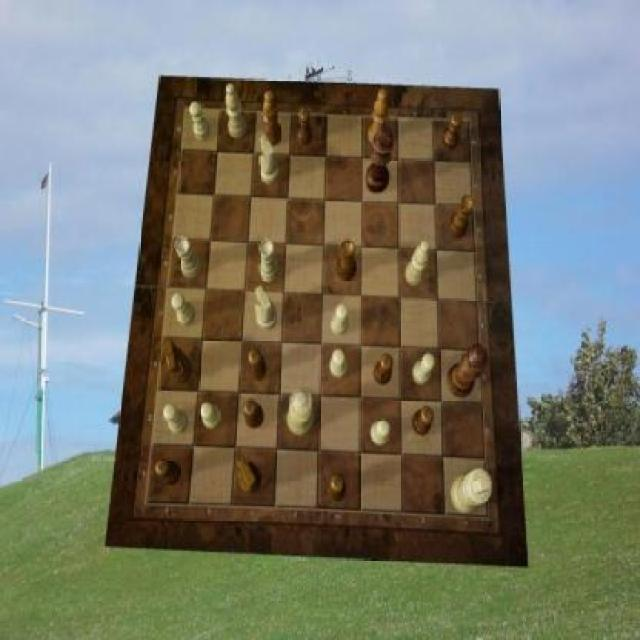bishop: (368, 89, 388, 147), (263, 91, 282, 145)
black-bishop: (366, 126, 394, 194)
black-king: (165, 341, 192, 384), (237, 457, 261, 495)
black-knight: (443, 112, 463, 151), (412, 406, 435, 436), (155, 459, 180, 486), (374, 354, 394, 386), (297, 106, 313, 146), (248, 349, 267, 382), (244, 400, 264, 429), (326, 474, 346, 501)
black-pawn: (446, 343, 489, 398)
black-queen: (448, 194, 474, 239), (336, 238, 356, 281)
black-rook: (406, 240, 431, 286), (226, 85, 247, 139)
white-bishop: (451, 468, 493, 513)
white-king: (258, 136, 280, 184), (256, 285, 276, 330)
white-knight: (190, 102, 212, 142), (170, 294, 194, 328), (165, 405, 189, 437), (412, 354, 436, 386), (200, 403, 222, 429), (331, 305, 348, 337), (371, 418, 391, 444), (331, 349, 348, 378)
white-pawn: (288, 388, 315, 437)
white-queen: (175, 235, 202, 278), (260, 238, 280, 282)
